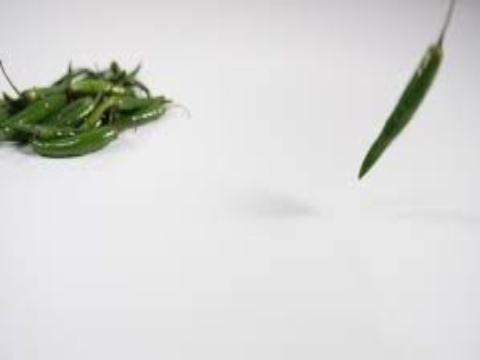Chilli: (347, 2, 465, 197)
